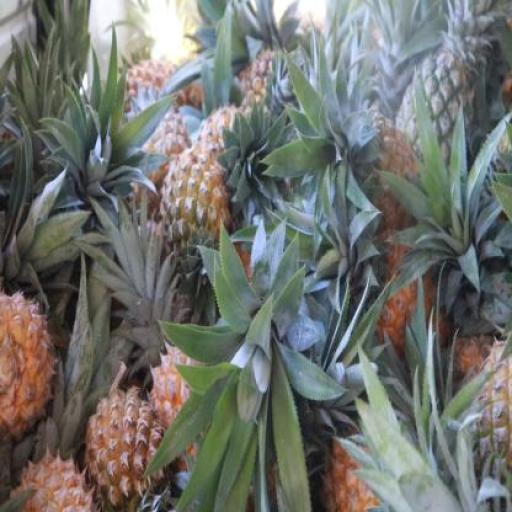------------------------------: (160, 146, 228, 279)
Pineapple - v8 v1: (88, 391, 161, 509), (0, 292, 58, 430)
